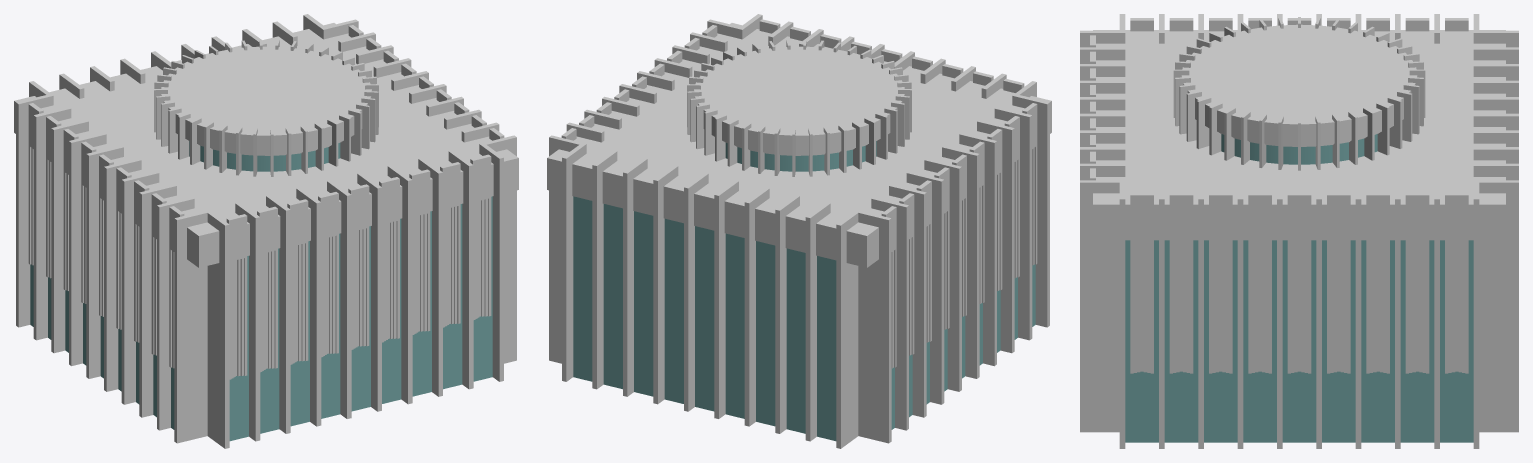
Rendered from Theatre (1).glb.
3 views of the same model, side by side, from view 1: azimuth 30°, elevation 25°; view 2: azimuth 150°, elevation 25°; view 3: azimuth 270°, elevation 25° (orthographic). The views are drawn at different scales.
Parts seen in each view (by area): view 1: Theatre; view 2: Theatre; view 3: Theatre.
Boxes of the visible parts, x1,y1,x2,y2 form: Theatre: (14,14,518,448); Theatre: (547,14,1051,448); Theatre: (1080,14,1518,448).
Bounding box in the file's own units: 0.446 × 0.321 × 0.446.
